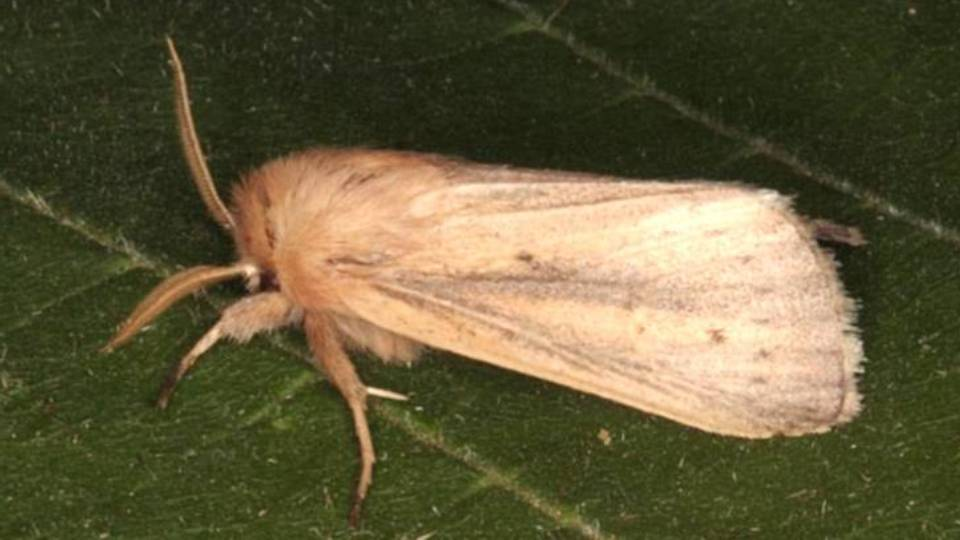Noctuidae: (102, 28, 871, 513)
